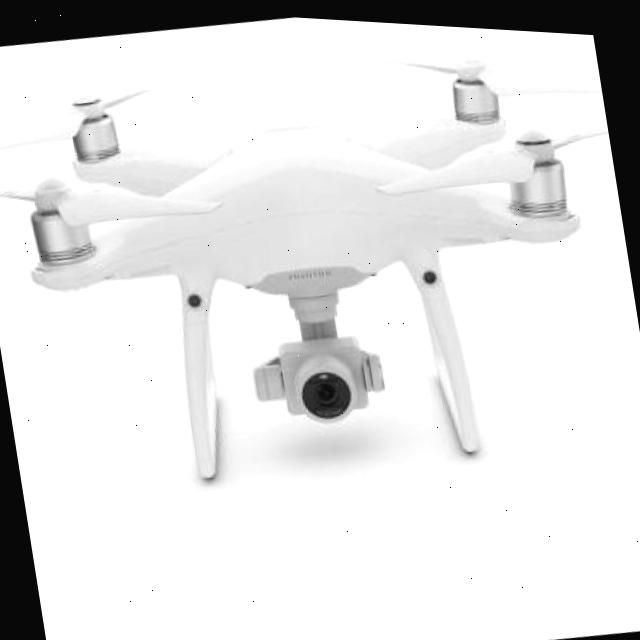drone: (0, 9, 634, 384)
